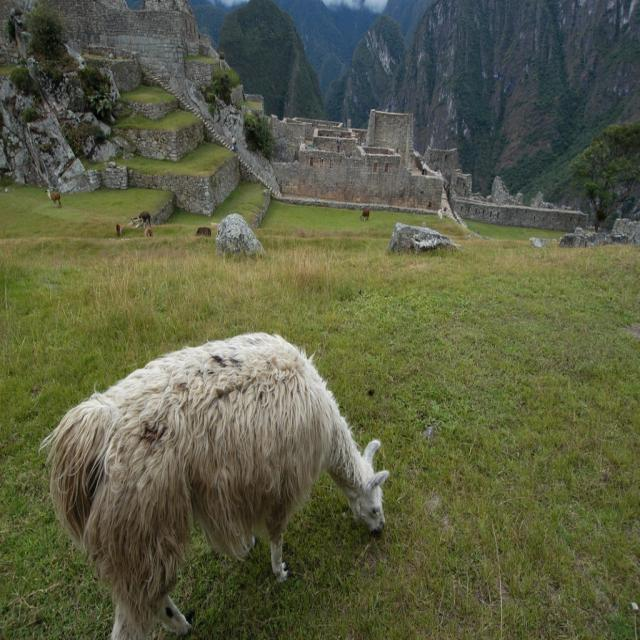Sheep: (37, 330, 385, 640)
